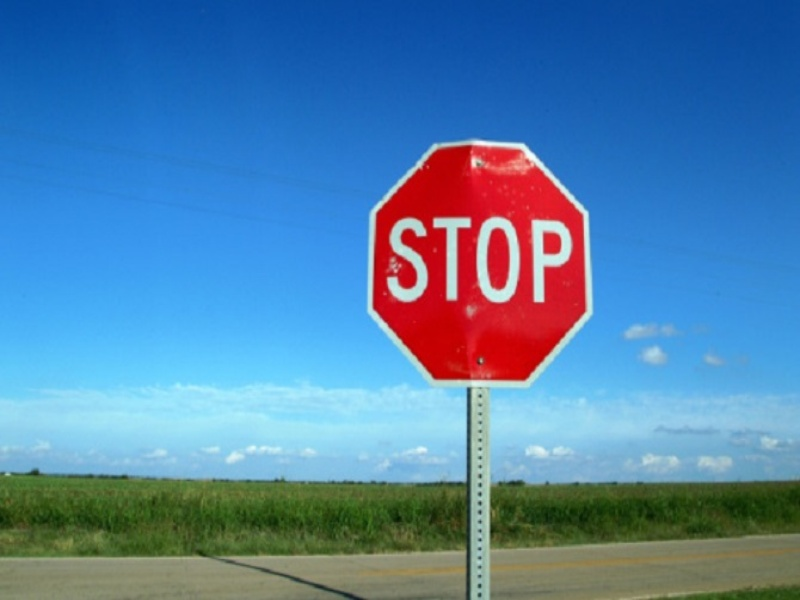stop sign: (365, 139, 598, 393)
